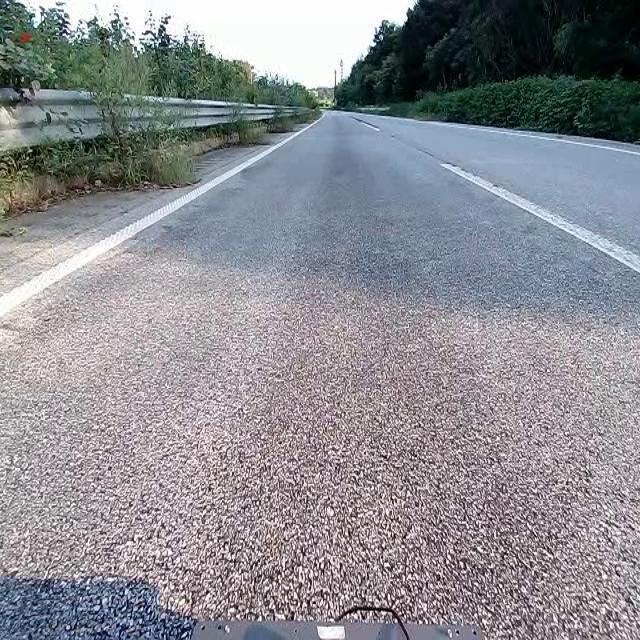Lane: (0, 105, 335, 317), (0, 120, 318, 321), (350, 108, 640, 282), (441, 163, 639, 273), (482, 127, 639, 155), (351, 118, 379, 131)
